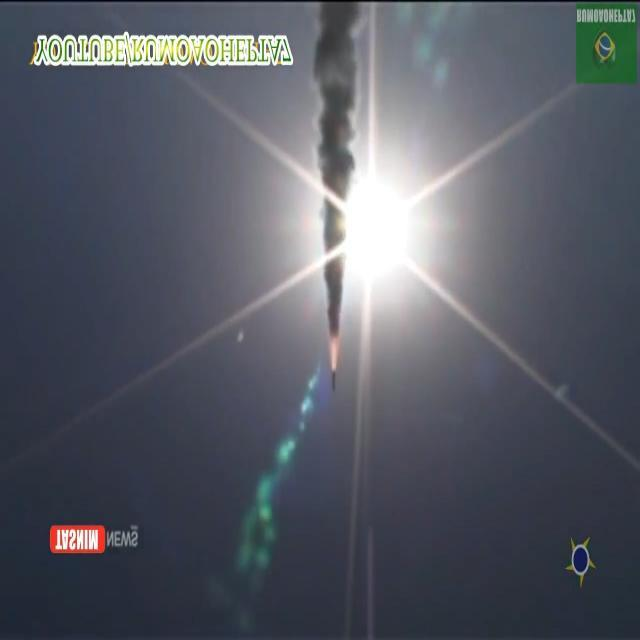Missile: (329, 361, 336, 403)
